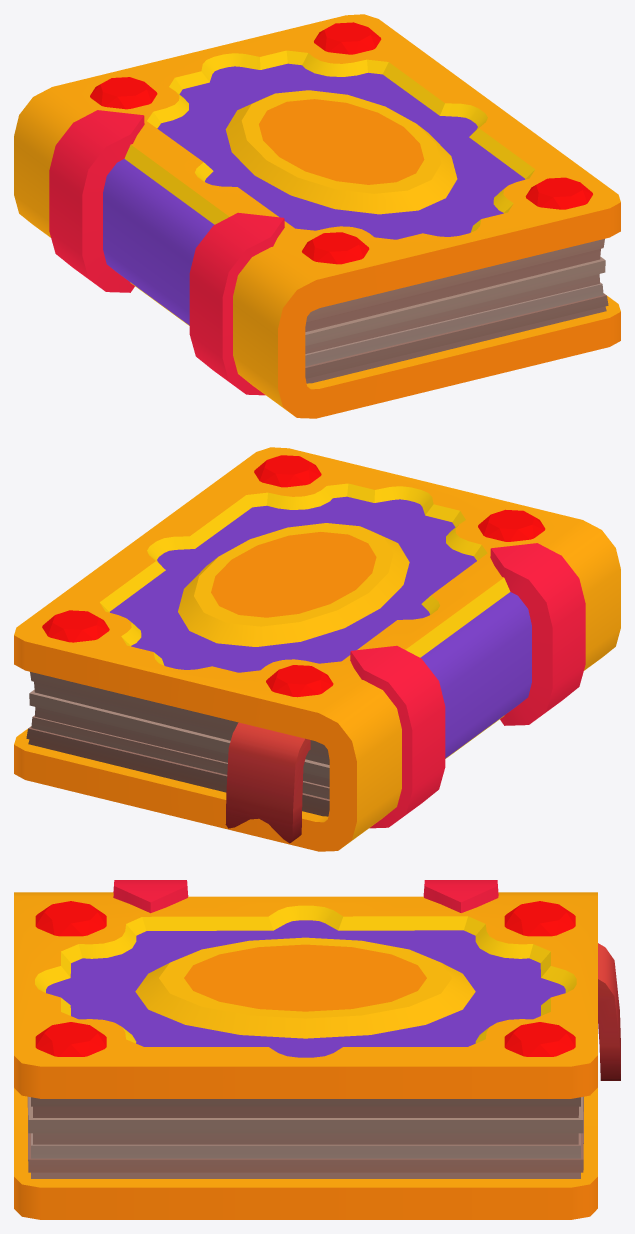
The model's file is Book_01.glb.
3 renders of one model, top to bottom at view 1: azimuth 30°, elevation 25°; view 2: azimuth 150°, elevation 25°; view 3: azimuth 270°, elevation 25°, orthographic. The views are drawn at different scales.
Visible parts, largest first — view 1: Book_01; view 2: Book_01; view 3: Book_01.
Part boxes in pixels (x1,y1,x2,y2): Book_01: [14, 14, 620, 418]; Book_01: [14, 447, 620, 851]; Book_01: [14, 880, 620, 1219].
Size of the model in its own units: 1.03 by 0.4313 by 1.35.
3 materials, 3 textured.
